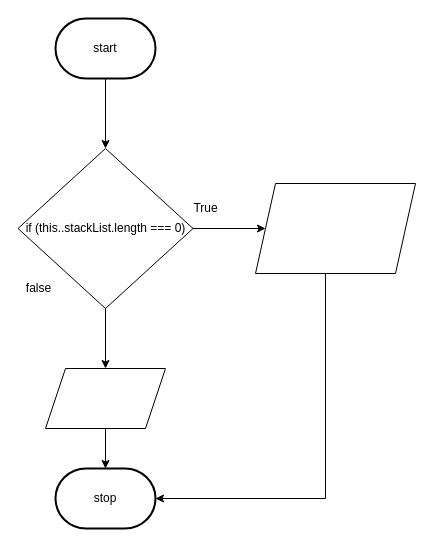
This 433x546 diagram has some shape labels left out. The shapes that lost their labels are listed below. From the top down, each one's box as (x1, y1, x2, y2) in pixels, then its label:
(254, 182, 416, 274): console.log("You cannot pop without values in the list")
(44, 368, 166, 428): Pop stack
